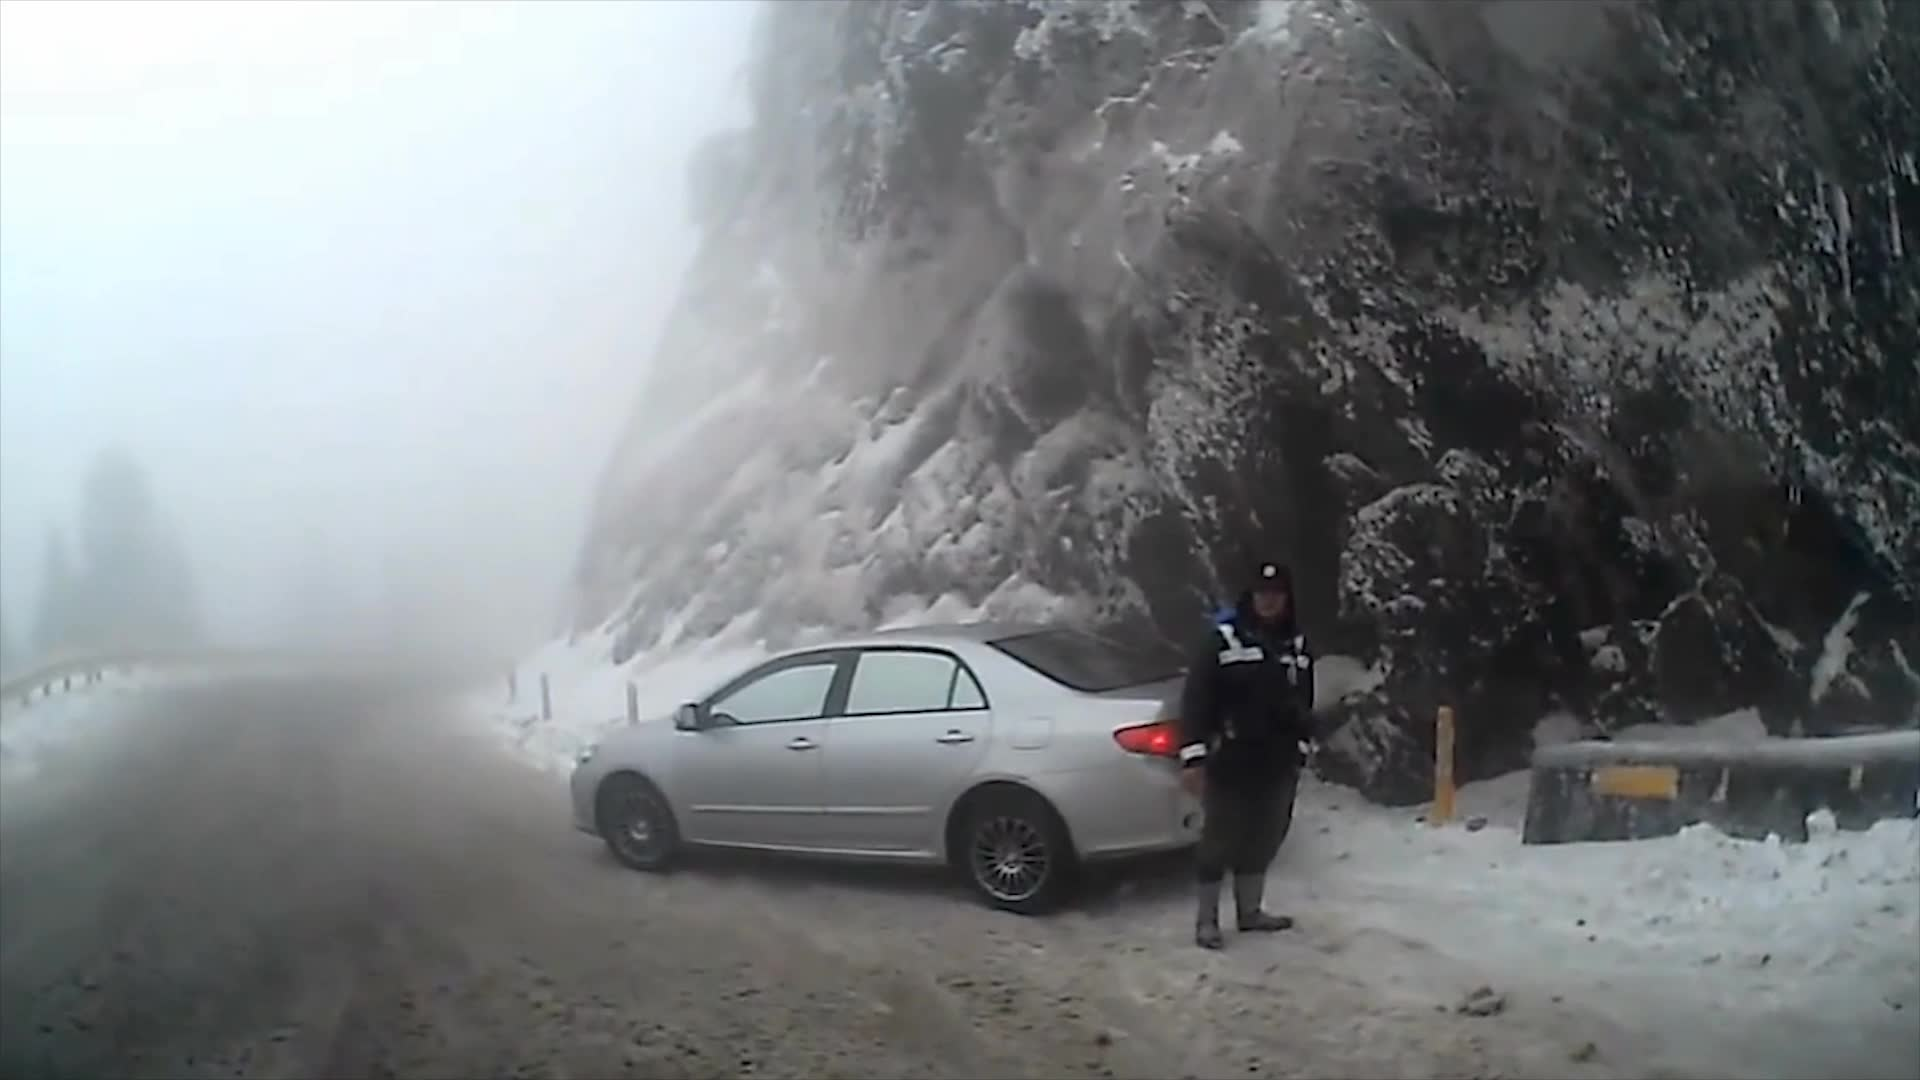pedestrian: (1172, 563, 1317, 955)
vehicle: (566, 621, 1285, 917)
